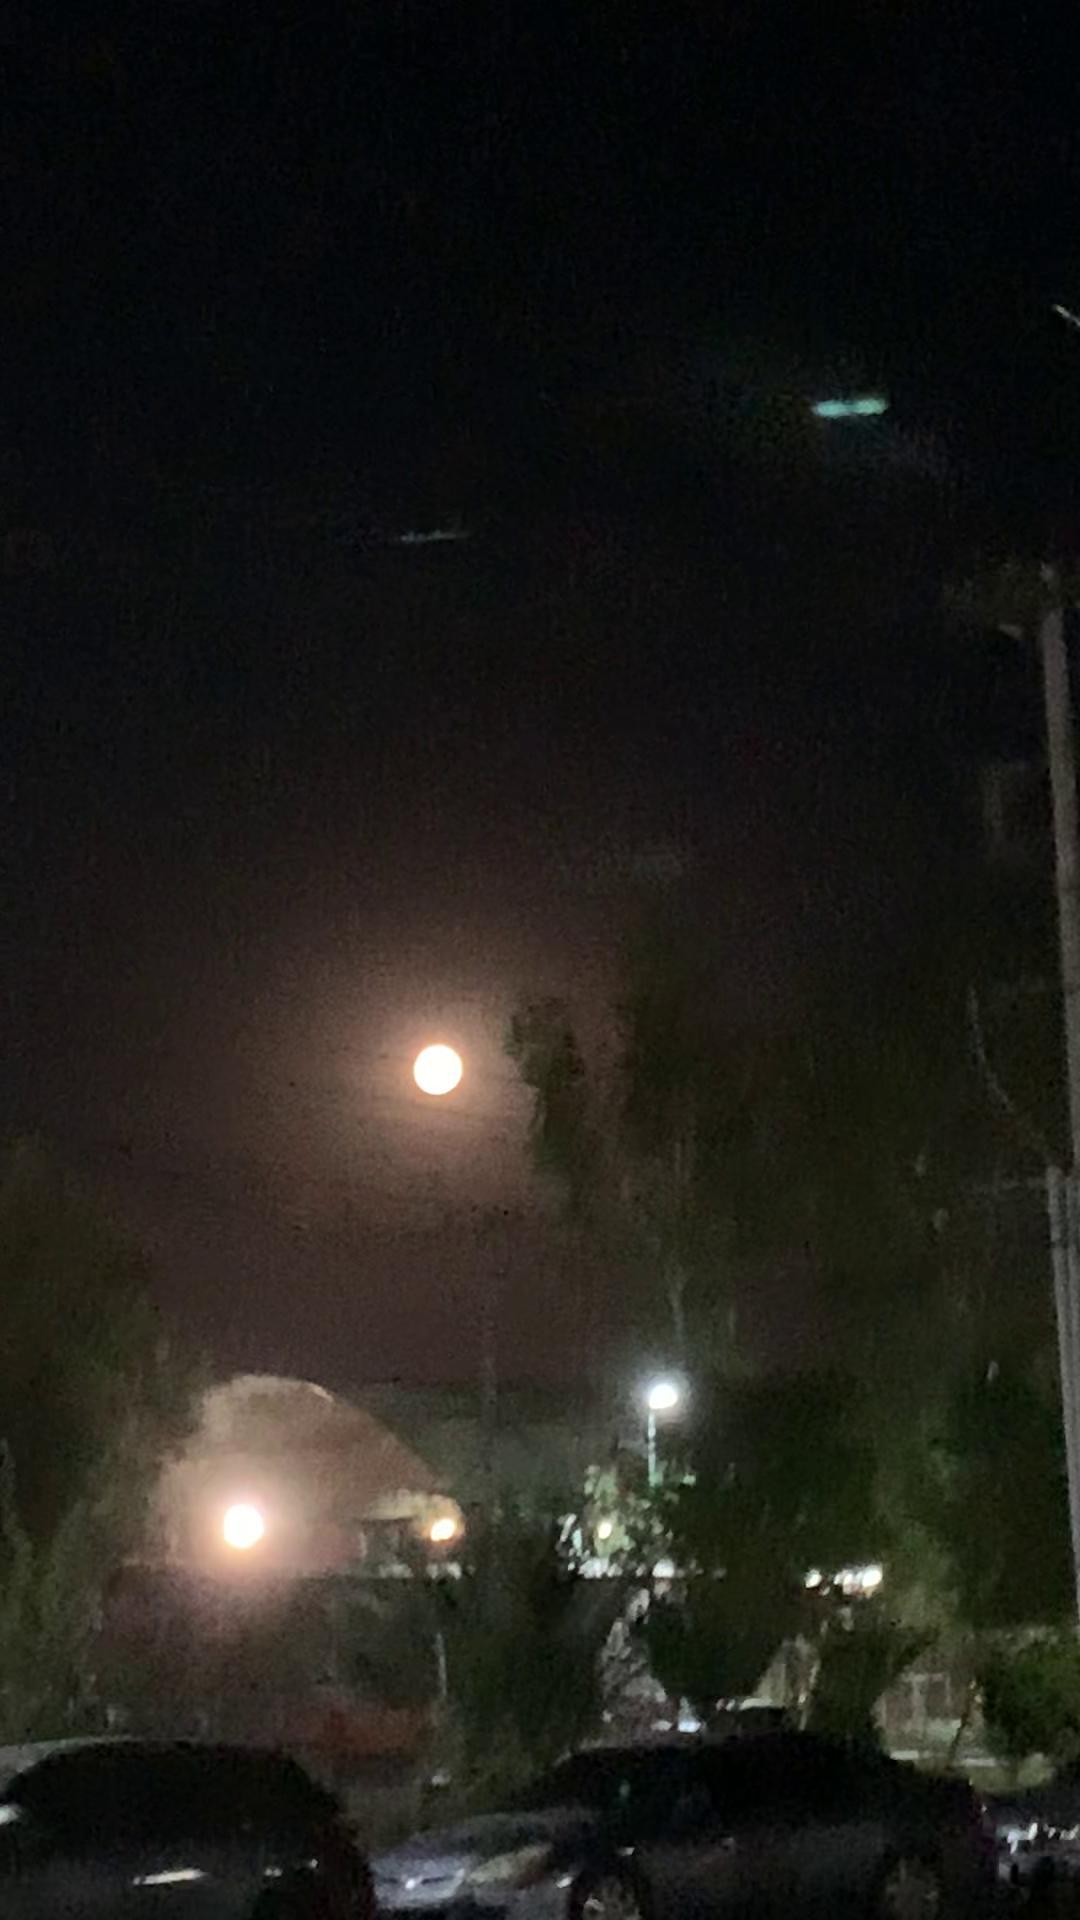moon: (401, 1015, 489, 1091)
